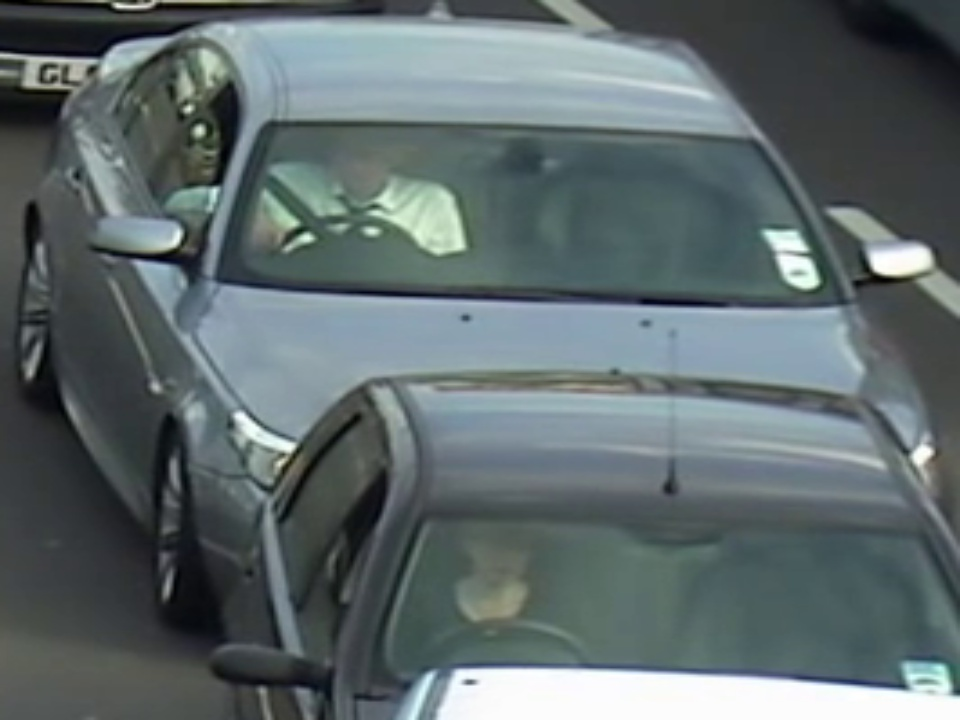ONE: (238, 116, 830, 306)
